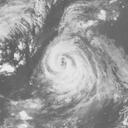cyclone: (39, 35, 96, 101)
